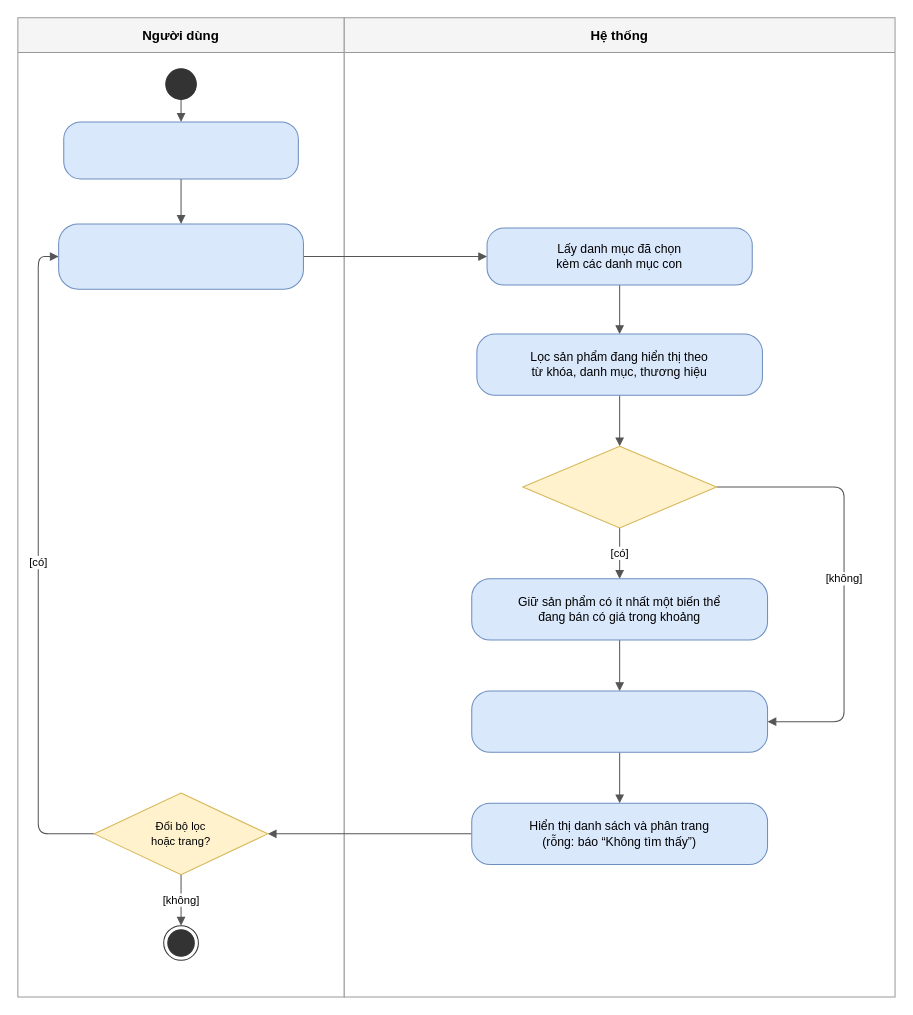
The diagram is 913 pixels wide and 1015 high, and some of its shapes have lost their labels. The shapes that lost their labels are listed below. From the top down, each one's box as (x1, y1, x2, y2) in pixels, then its label:
(63, 121, 298, 179): Mở trang Sản phẩm
(58, 223, 303, 289): Chọn bộ lọc: từ khóa, danh mục, thương hiệu, khoảng giá, sắp xếp
(522, 445, 717, 528): Có lọc theo giá?
(471, 690, 768, 752): Sắp xếp, phân trang (tối đa 48 sản phẩm/trang)
